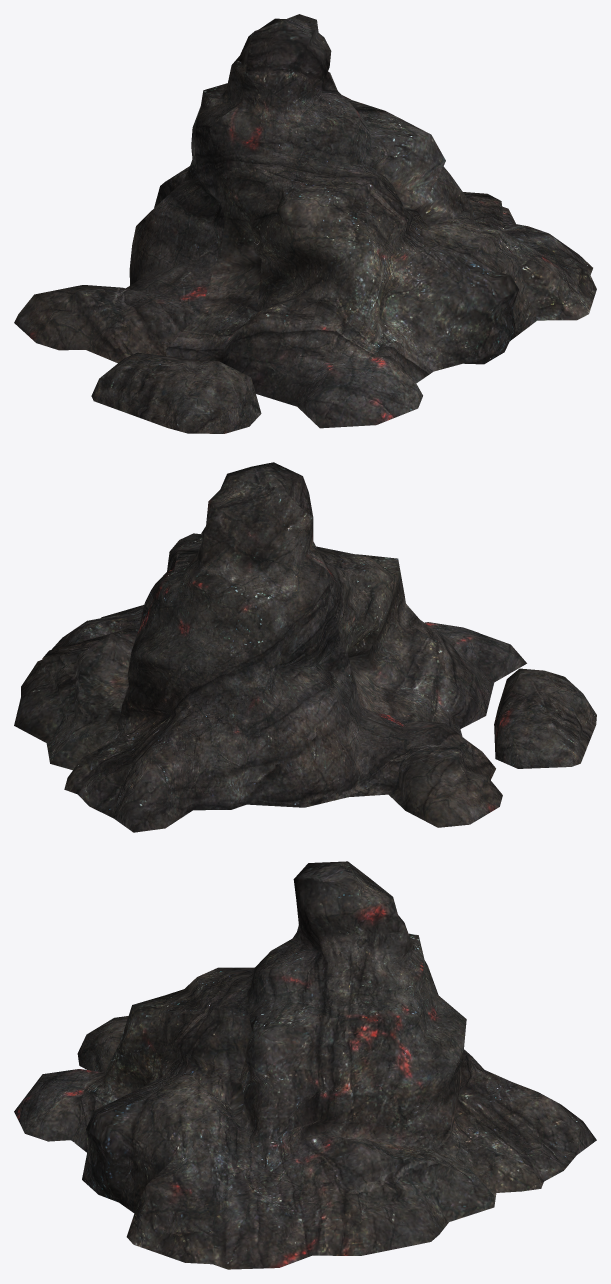
Rendered from Rock_01.FBX.
3 renders of one model, top to bottom at view 1: azimuth 30°, elevation 25°; view 2: azimuth 150°, elevation 25°; view 3: azimuth 270°, elevation 25°, orthographic. The views are drawn at different scales.
Visible parts, largest first — view 1: Rock_01; view 2: Rock_01; view 3: Rock_01.
Part boxes in pixels (left/top/right/bottom): Rock_01: left=14, top=14, right=596, bottom=433; Rock_01: left=14, top=462, right=596, bottom=832; Rock_01: left=14, top=861, right=596, bottom=1269.
Bounding box in the file's own units: 64.81 × 33.66 × 62.97.
